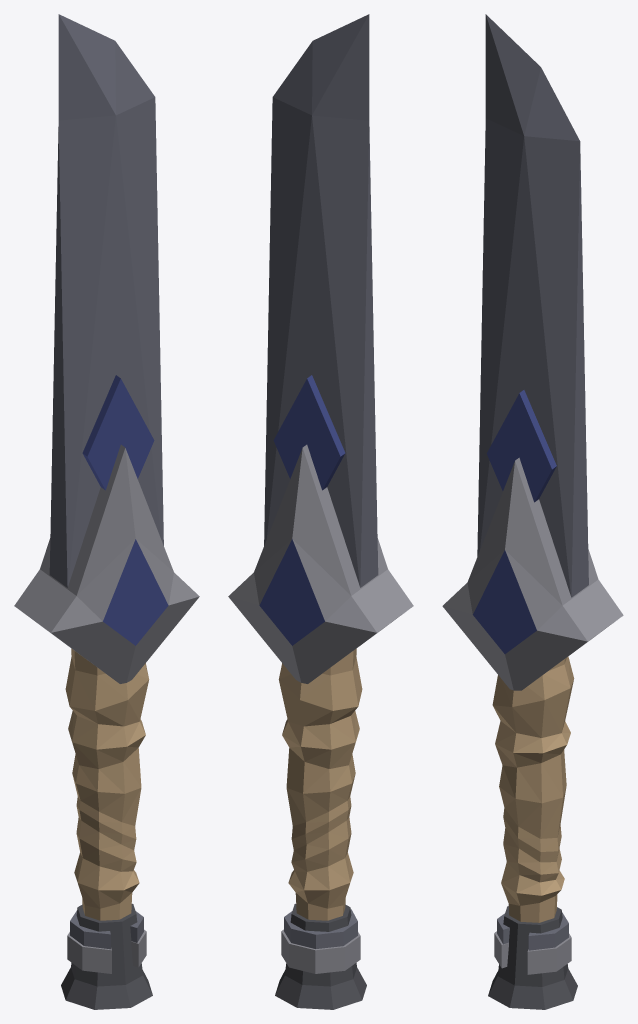
The model's file is dagger_dagger_4.glb.
3 views of the same model, side by side, from view 1: azimuth 30°, elevation 25°; view 2: azimuth 150°, elevation 25°; view 3: azimuth 330°, elevation 25° (orthographic). The views are drawn at different scales.
Parts seen in each view (by area): view 1: dagger_4; view 2: dagger_4; view 3: dagger_4.
Boxes of the visible parts, <box> form: dagger_4: <box>14,14,199,1009</box>; dagger_4: <box>228,14,413,1009</box>; dagger_4: <box>442,14,623,1009</box>.
Bounding box in the file's own units: 6.72 × 42.57 × 4.49.
Materials: 1 (1 with a texture image).
